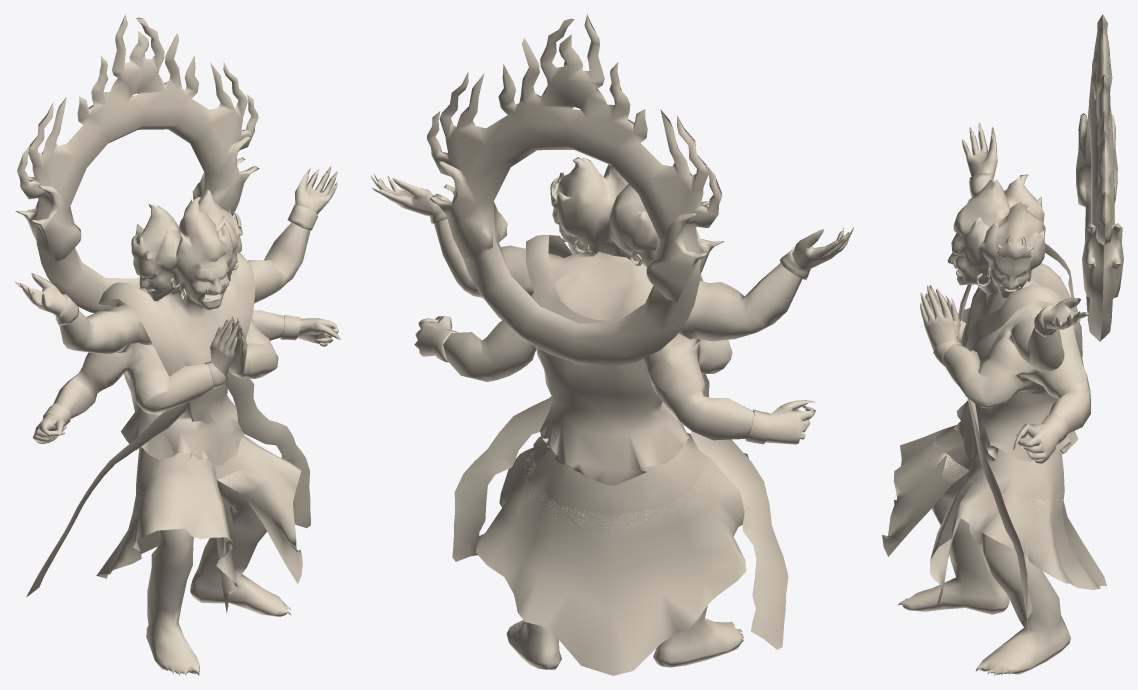
The model's file is body-burningmalevolence.glb.
The picture shows the model from 3 angles, left to right: view 1: azimuth 30°, elevation 25°; view 2: azimuth 150°, elevation 25°; view 3: azimuth 270°, elevation 25°; orthographic projection. The views are drawn at different scales.
Size of the model in its own units: 5.81 by 9.02 by 3.25.
